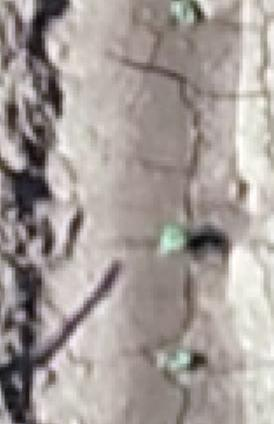cotton: (163, 224, 183, 250), (178, 5, 197, 23), (174, 351, 189, 370)
